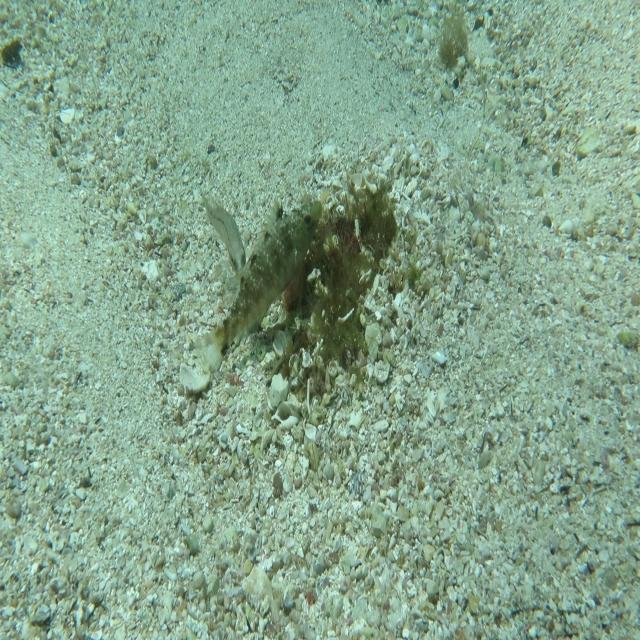core_nest: (330, 205, 389, 262)
female: (194, 192, 324, 385), (198, 183, 247, 274)
nest: (267, 165, 412, 406)
